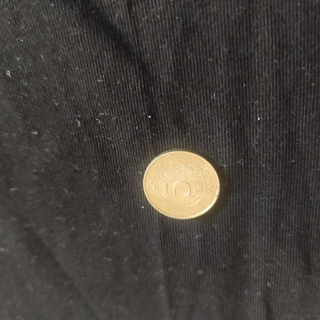5KURUS: (139, 147, 223, 221)
